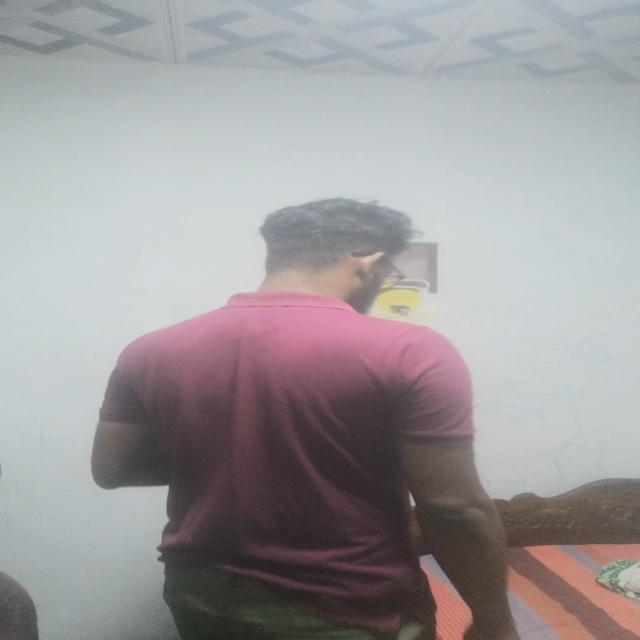Person: (68, 192, 535, 640)
